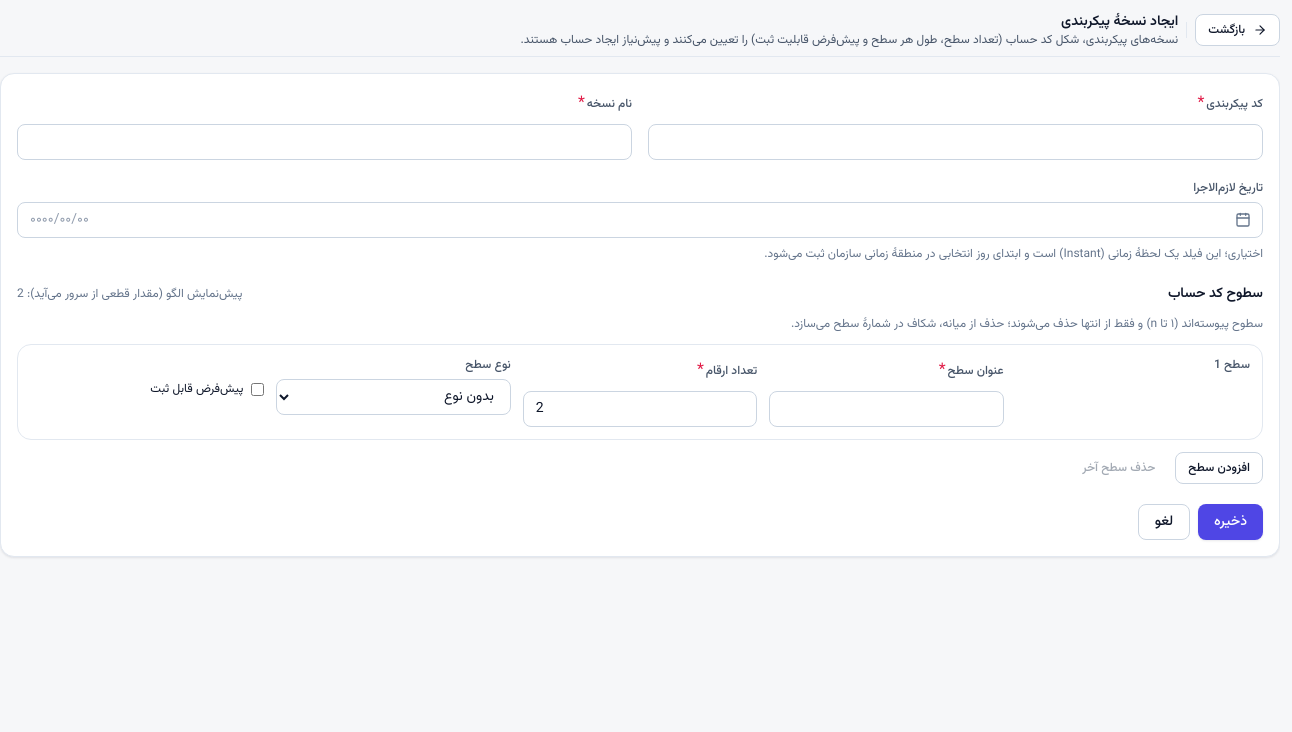
Test: ConfigurationFormPage › blocks a request when a level is invalid or a required field is empty
Type "DEFAULT" into the field labelled "کد پیکربندی". click: (956, 142)
box: [648, 124, 1263, 160]
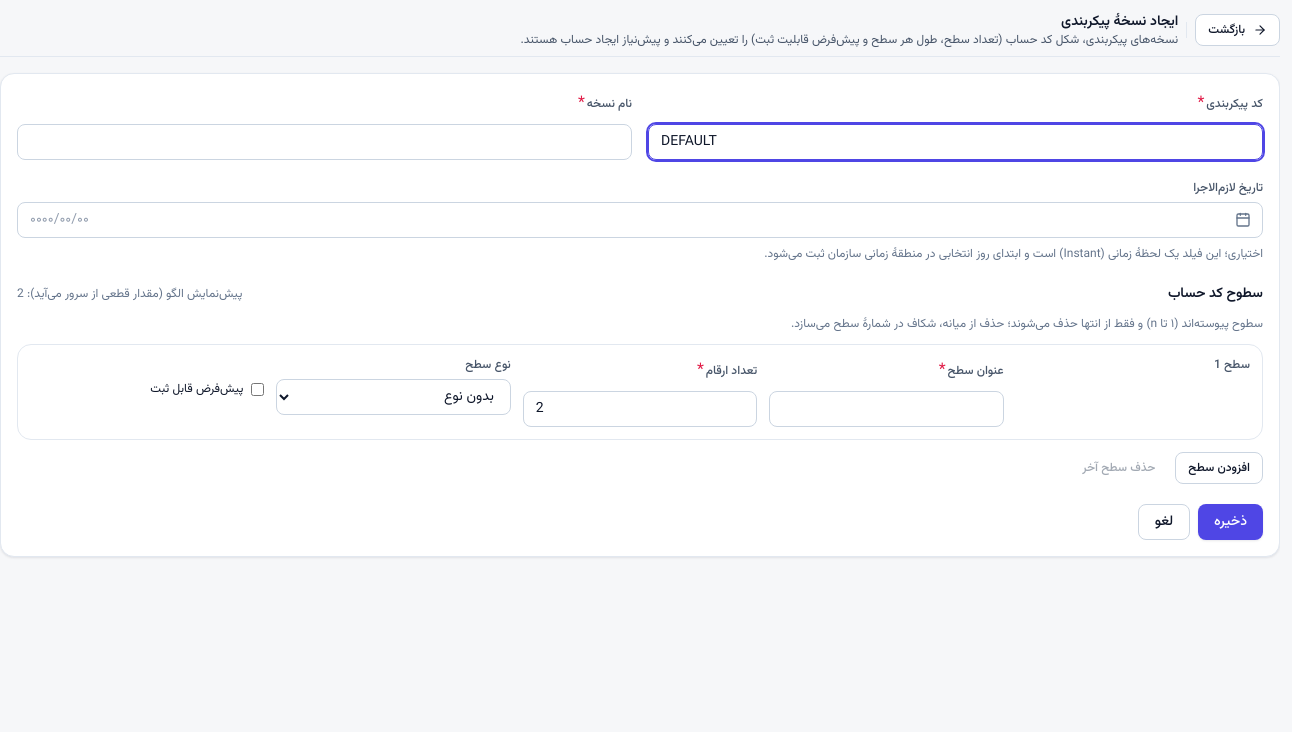
Click the button "ذخیره". click: (1231, 522)
box: [1198, 504, 1263, 540]
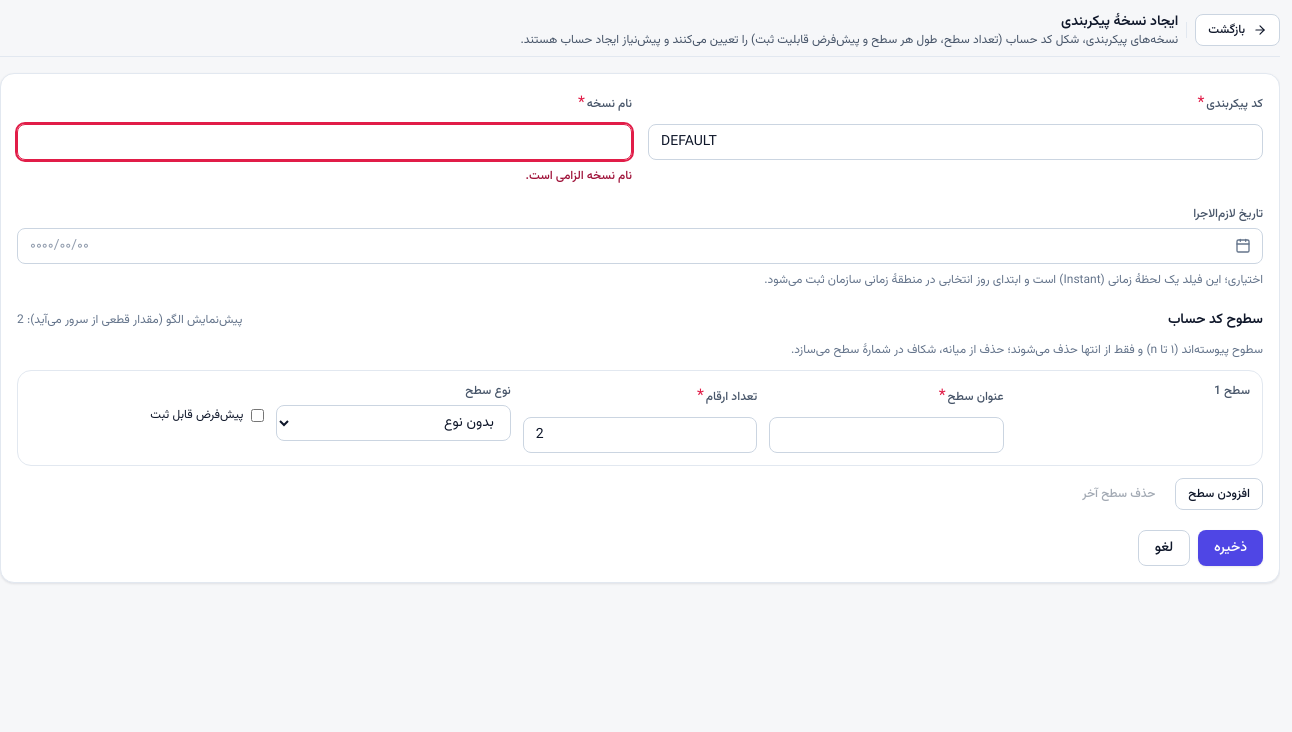
Check: the text "نام نسخه الزامی است." is shown, box [526, 167, 632, 185]
Type "نسخه" into the field labelled "نام نسخه". click: (324, 142)
box: [17, 124, 632, 160]
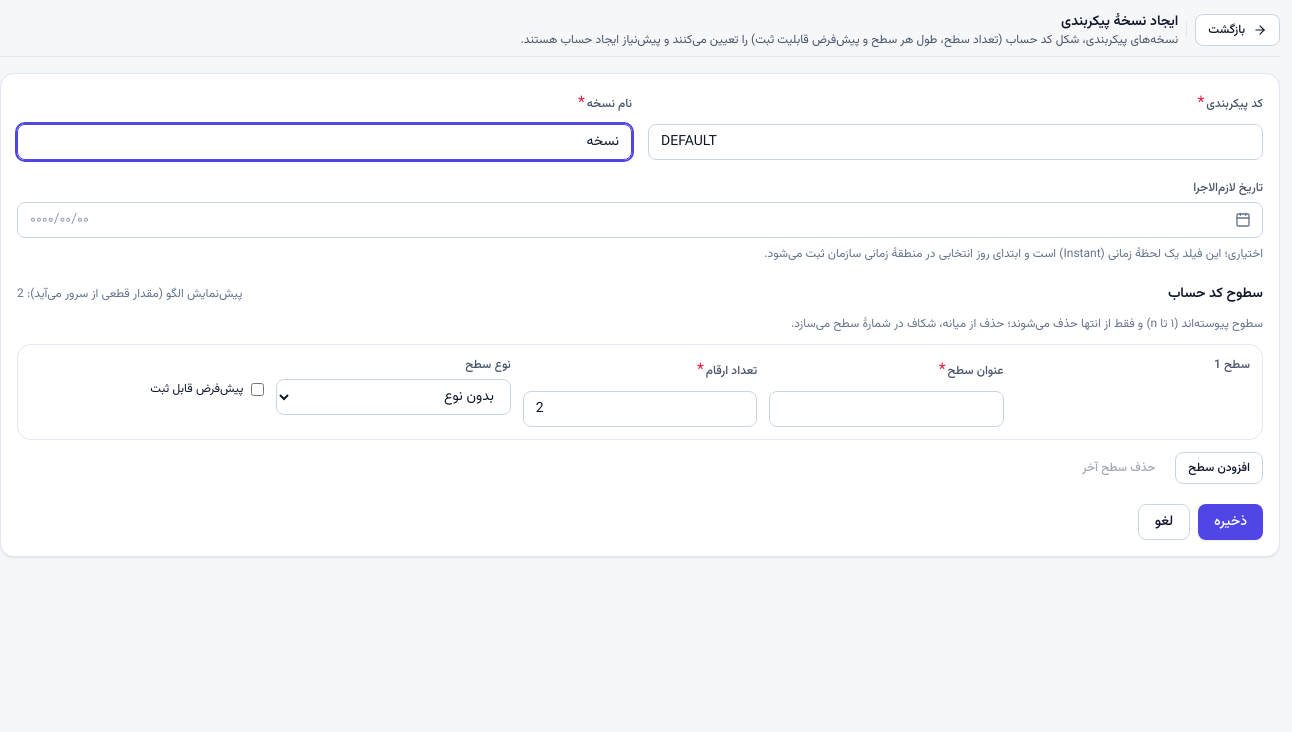
Type "گروه" into the field labelled "عنوان سطح". click: (886, 409)
box: [769, 391, 1004, 427]
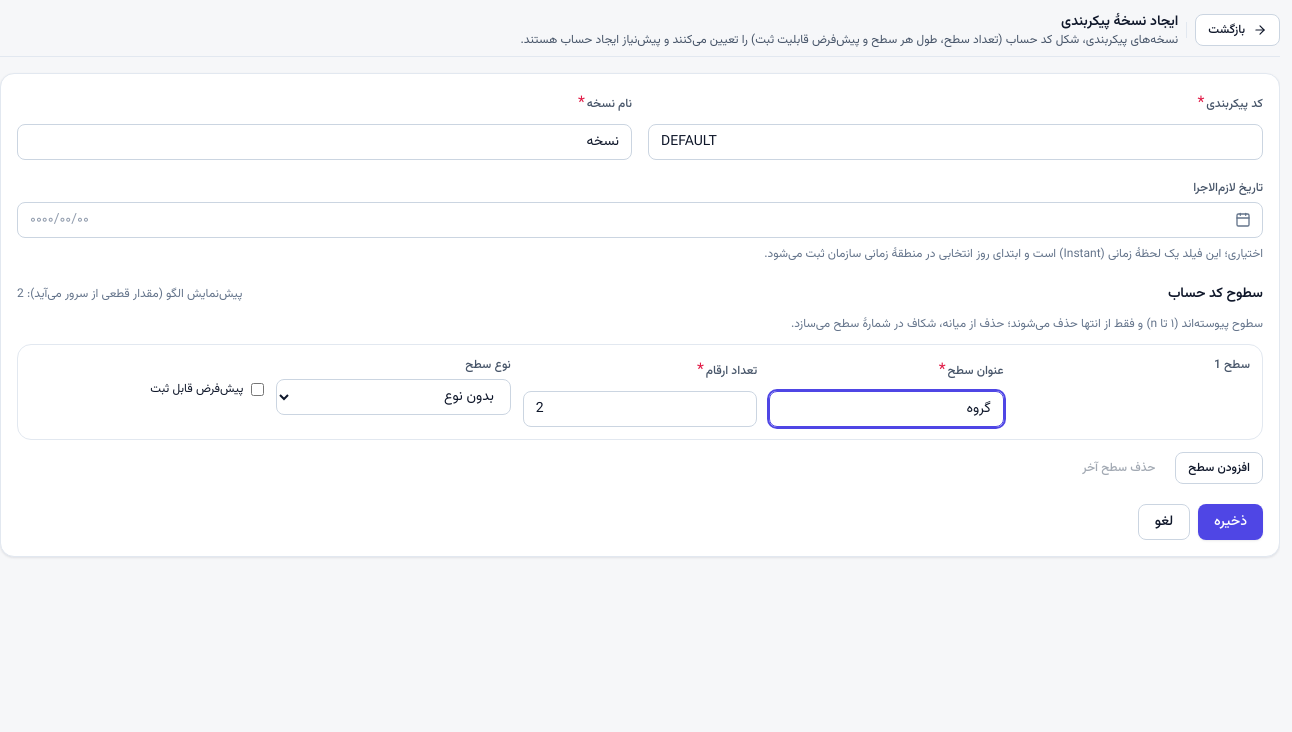
Clear the number field labelled "تعداد ارقام". click: (640, 409)
box: [523, 391, 757, 427]
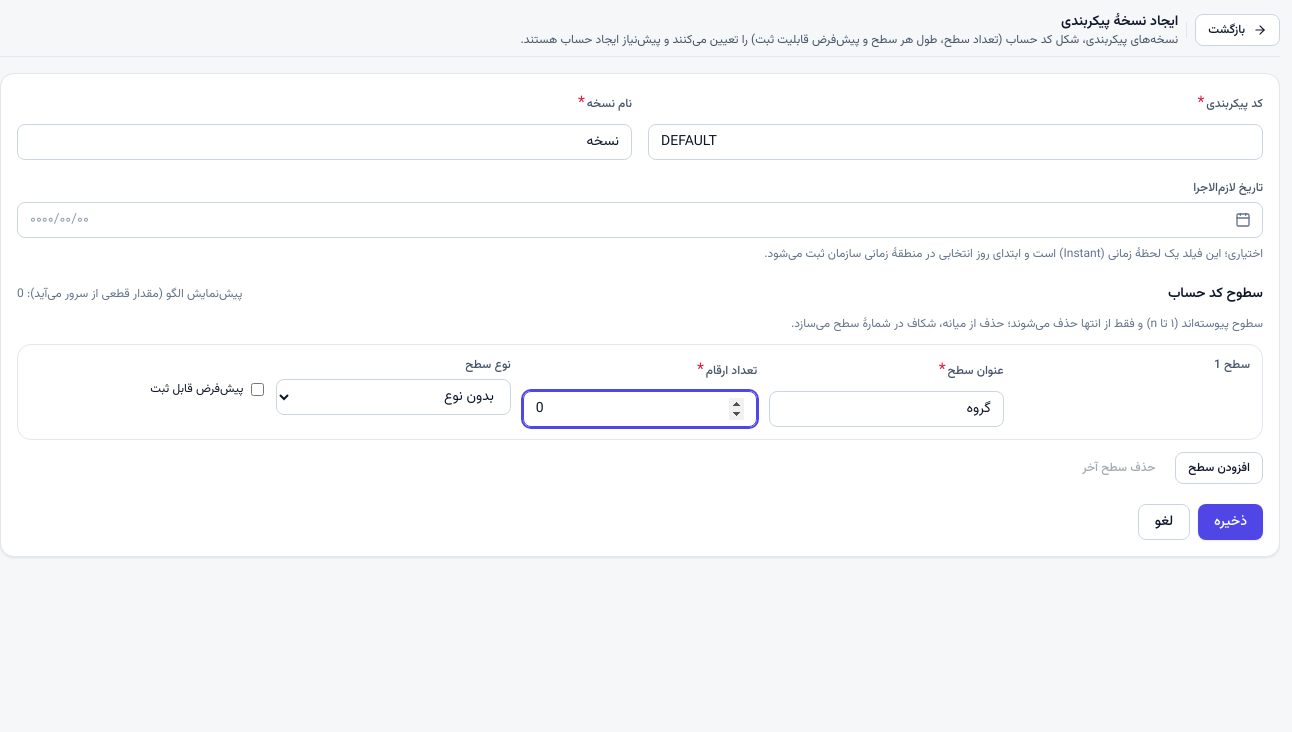
Click the button "ذخیره". click: (1231, 522)
box: [1198, 504, 1263, 540]
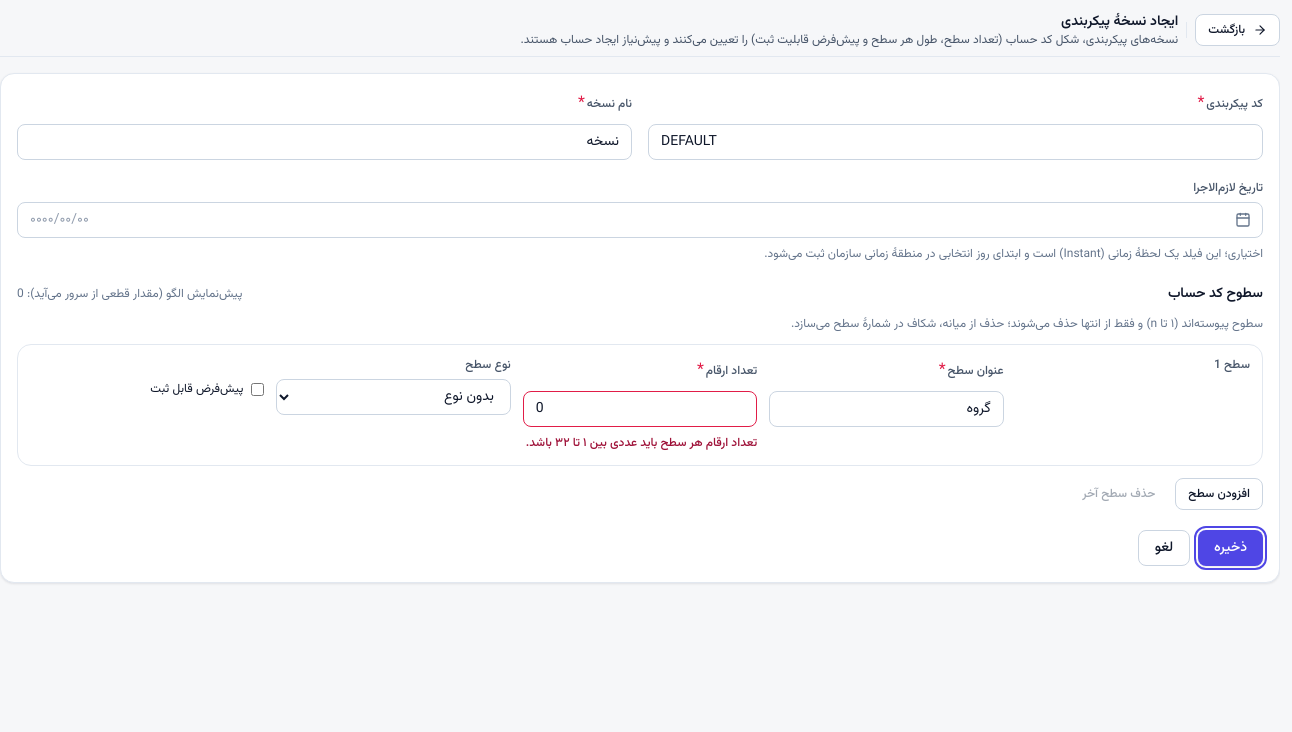
Check: the text "تعداد ارقام هر سطح باید عددی بین ۱ تا ۳۲ باشد." is shown, box [523, 433, 757, 453]
